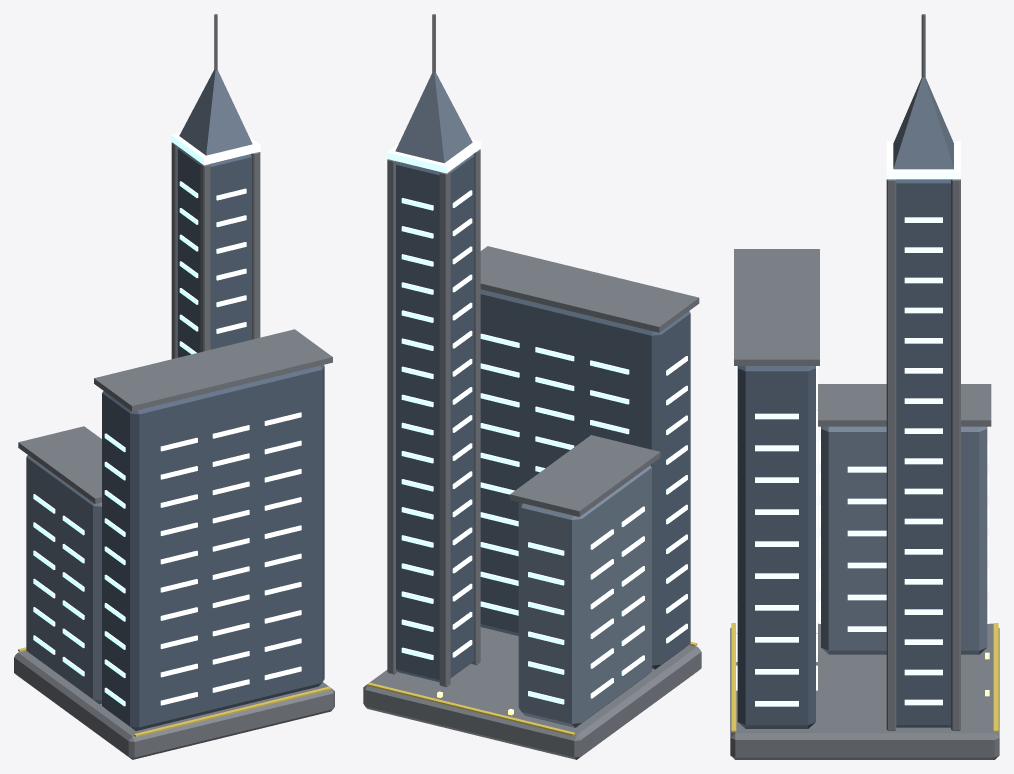
The model's file is zone_high_6.glb.
The picture shows the model from 3 angles, left to right: view 1: azimuth 30°, elevation 25°; view 2: azimuth 150°, elevation 25°; view 3: azimuth 270°, elevation 25°; orthographic projection. The views are drawn at different scales.
Parts seen in each view (by area): view 1: zone_high_6, detail; view 2: zone_high_6, detail; view 3: zone_high_6, detail.
Part boxes in pixels (bbox=[...]): zone_high_6: bbox=[14, 69, 334, 759]; detail: bbox=[18, 14, 330, 737]; zone_high_6: bbox=[363, 72, 701, 759]; detail: bbox=[367, 14, 697, 735]; zone_high_6: bbox=[730, 77, 999, 759]; detail: bbox=[731, 14, 998, 732].
Size of the model in its own units: 27.5 by 82.06 by 27.5.
